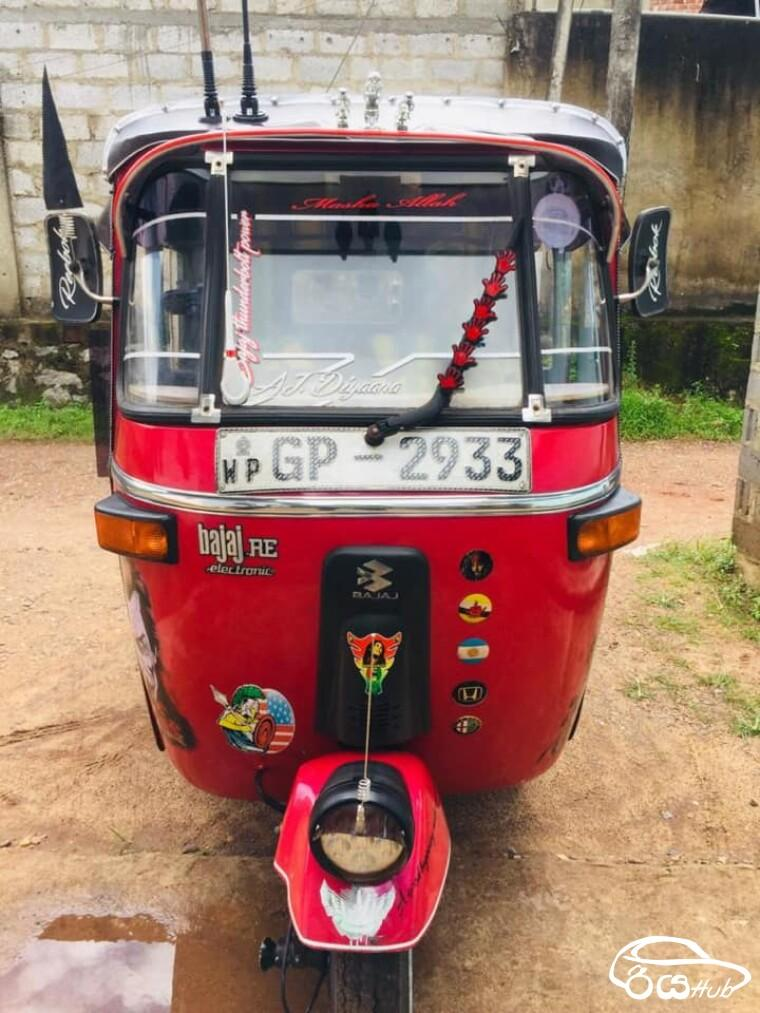threewheel: (43, 92, 670, 1013)
